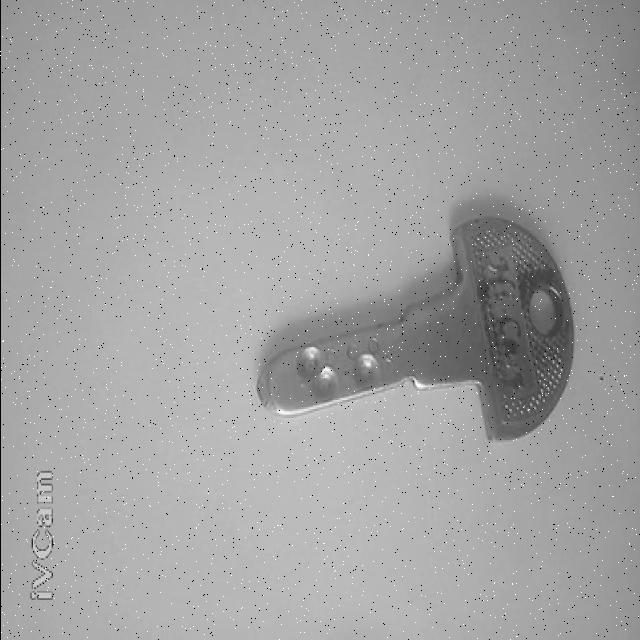key: (256, 218, 573, 440)
